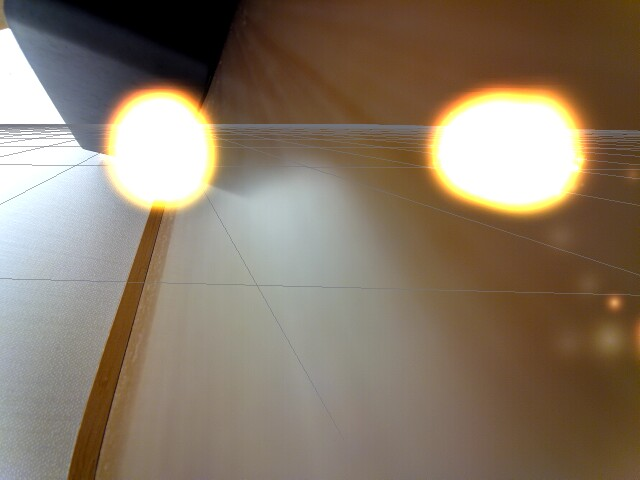firebig: (405, 51, 583, 242)
